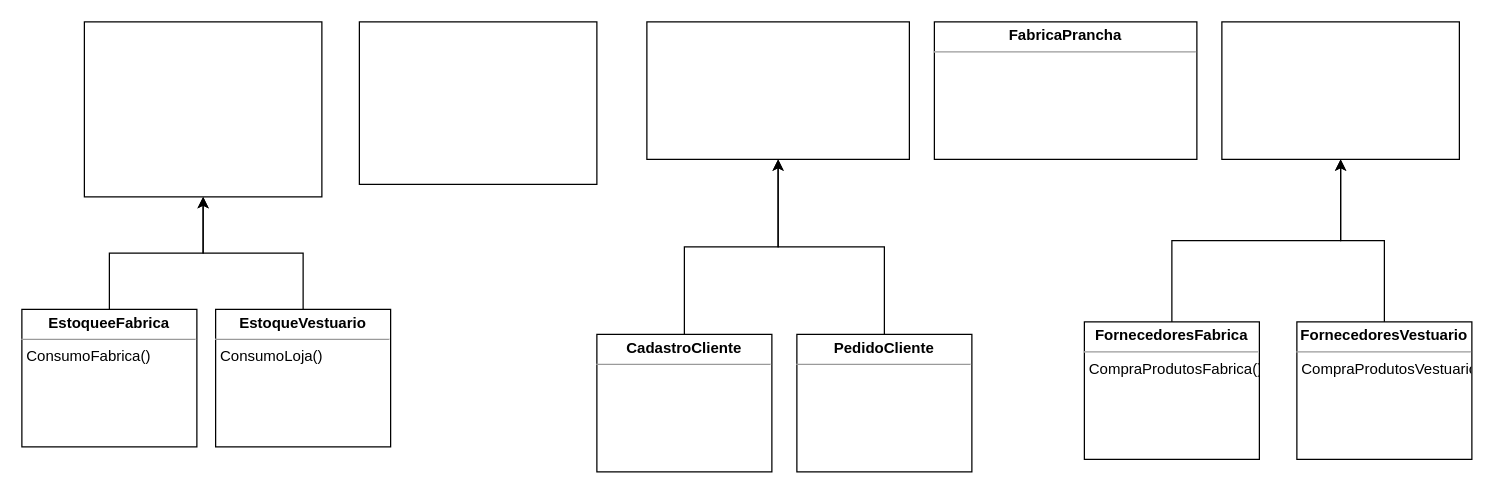
This 1508x494 diagram has some shape labels left out. Each missing label, with the centre of its shape:
"Cliente" belongs at [777,90].
"DevSurfShop" belongs at [477,102].
"Estoque (Interface)" belongs at [202,109].
"Fornecedores (Interface)" belongs at [1340,90].
